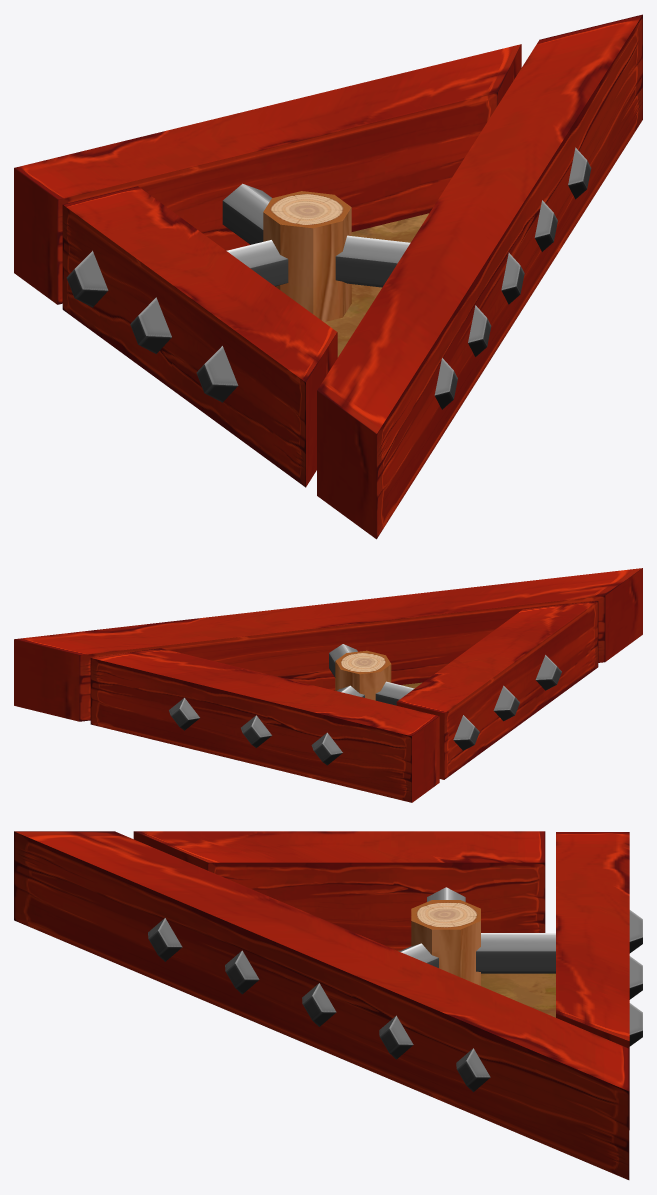
The model's file is triangle_red_03.fbx.
3 renders of one model, top to bottom at view 1: azimuth 30°, elevation 25°; view 2: azimuth 150°, elevation 25°; view 3: azimuth 270°, elevation 25°, orthographic. The views are drawn at different scales.
Parts seen in each view (by area): view 1: wall_84, wall_83, wall_82, Middle_7, spring_18, floor_6, spring_16, spring_17; view 2: wall_84, wall_83, wall_82, Middle_7, spring_17, spring_18; view 3: wall_84, wall_82, wall_83, Middle_7, spring_16, floor_6.
Part boxes in pixels (left/top/right/bottom): wall_84: left=317, top=14, right=642, bottom=539; wall_83: left=14, top=44, right=521, bottom=304; wall_82: left=62, top=186, right=337, bottom=487; Middle_7: left=263, top=191, right=351, bottom=321; spring_18: left=335, top=235, right=410, bottom=287; floor_6: left=324, top=213, right=428, bottom=357; spring_16: left=222, top=183, right=271, bottom=244; spring_17: left=226, top=240, right=288, bottom=286; wall_84: left=14, top=568, right=642, bottom=721; wall_83: left=90, top=648, right=439, bottom=802; wall_82: left=396, top=601, right=598, bottom=779; Middle_7: left=335, top=650, right=391, bottom=700; spring_17: left=375, top=681, right=414, bottom=705; spring_18: left=329, top=644, right=357, bottom=677; wall_84: left=14, top=831, right=629, bottom=1179; wall_82: left=133, top=831, right=545, bottom=950; wall_83: left=556, top=832, right=642, bottom=1129; Middle_7: left=411, top=900, right=480, bottom=985; spring_16: left=476, top=933, right=555, bottom=973; floor_6: left=398, top=950, right=555, bottom=1017.
Bounding box in the file's own units: 258 × 40 × 256.
